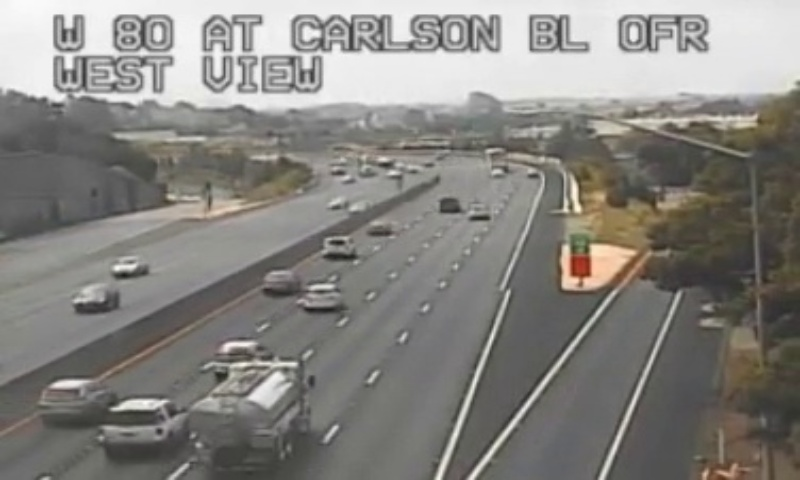car: (104, 398, 185, 445), (36, 377, 112, 422), (300, 285, 338, 308), (261, 270, 297, 294), (321, 236, 355, 259)
tank-truck: (185, 357, 308, 470)
